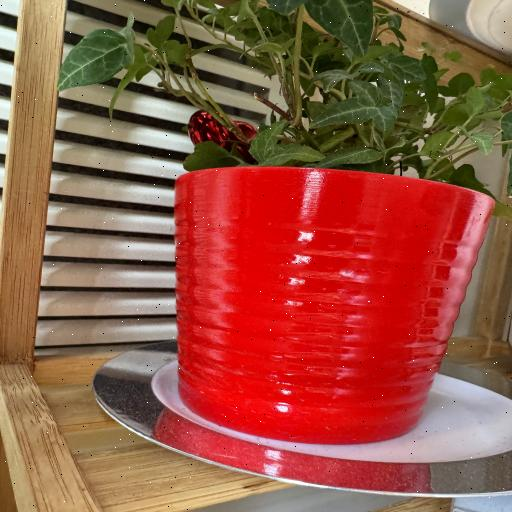Plant Pot: (172, 154, 494, 438)
